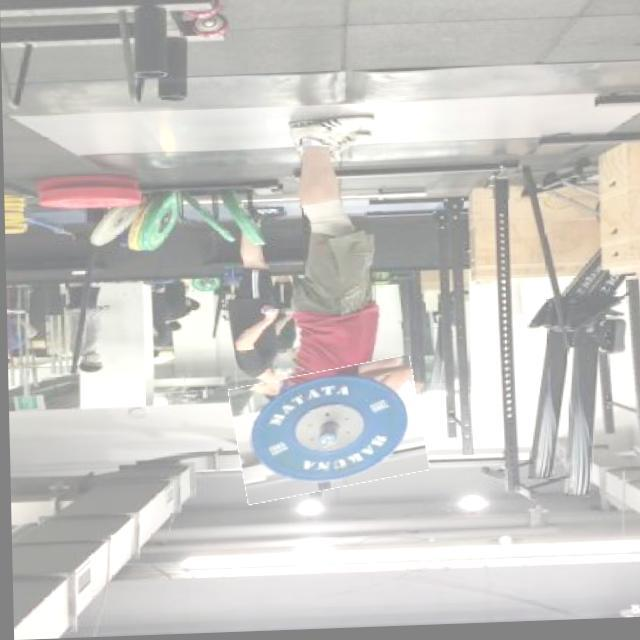barbell: (230, 365, 425, 501)
